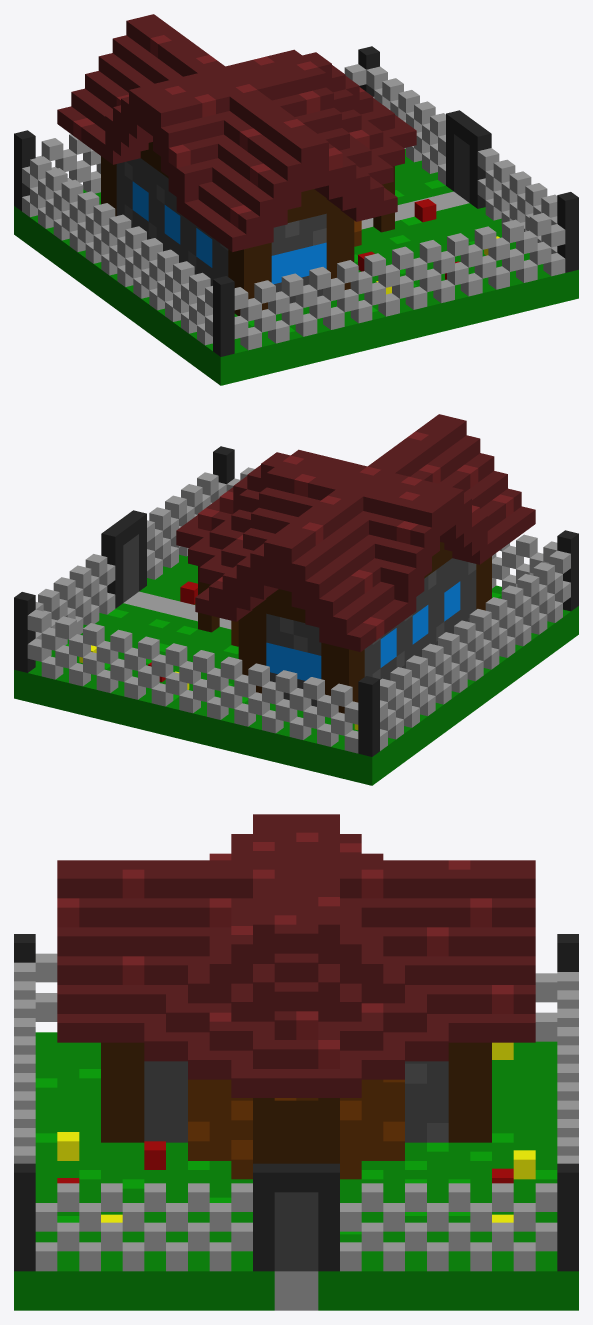
The model's file is house2.5.obj.
3 renders of one model, top to bottom at view 1: azimuth 30°, elevation 25°; view 2: azimuth 150°, elevation 25°; view 3: azimuth 270°, elevation 25°, orthographic. The views are drawn at different scales.
Size of the model in its own units: 2.6 by 1.4 by 2.6.
Materials: 1 (1 with a texture image).
